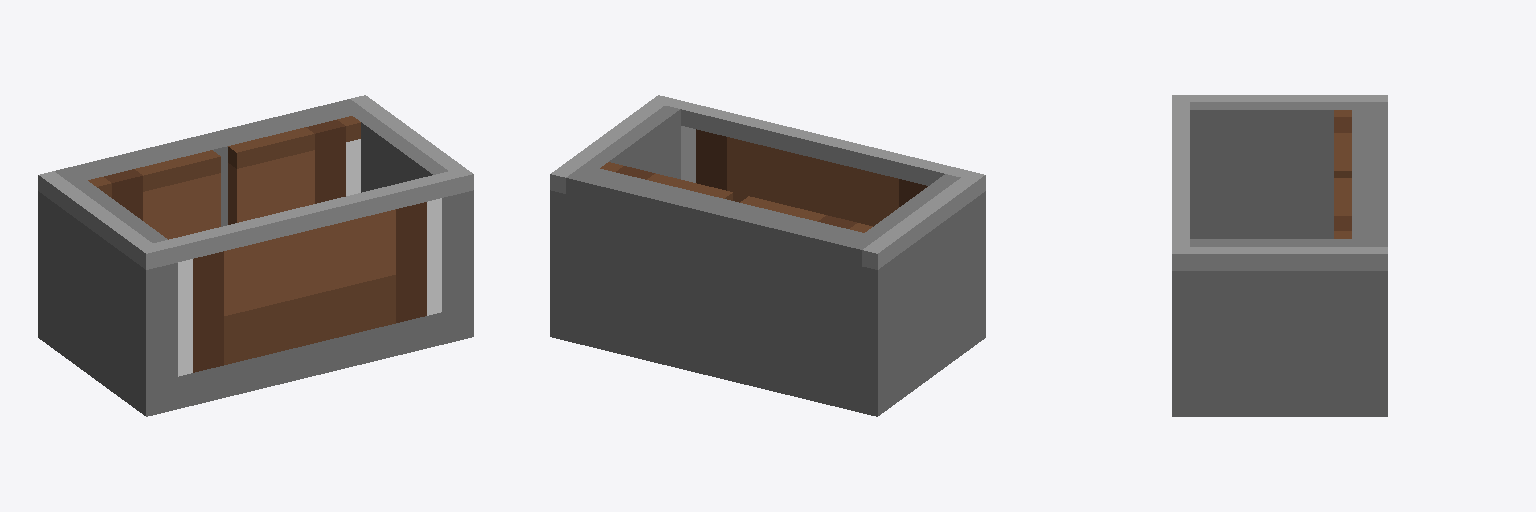
3 renders of one model, left to right at view 1: azimuth 30°, elevation 25°; view 2: azimuth 150°, elevation 25°; view 3: azimuth 270°, elevation 25°, orthographic.
Parts seen in each view (by area): view 1: object 1; view 2: object 1; view 3: object 1.
Part boxes in pixels (x1,y1,x2,y2): object 1: (38, 95, 473, 416); object 1: (550, 95, 985, 416); object 1: (1172, 95, 1387, 416).
Size of the model in its own units: 2.1 by 1 by 1.2.
1 materials, 1 textured.